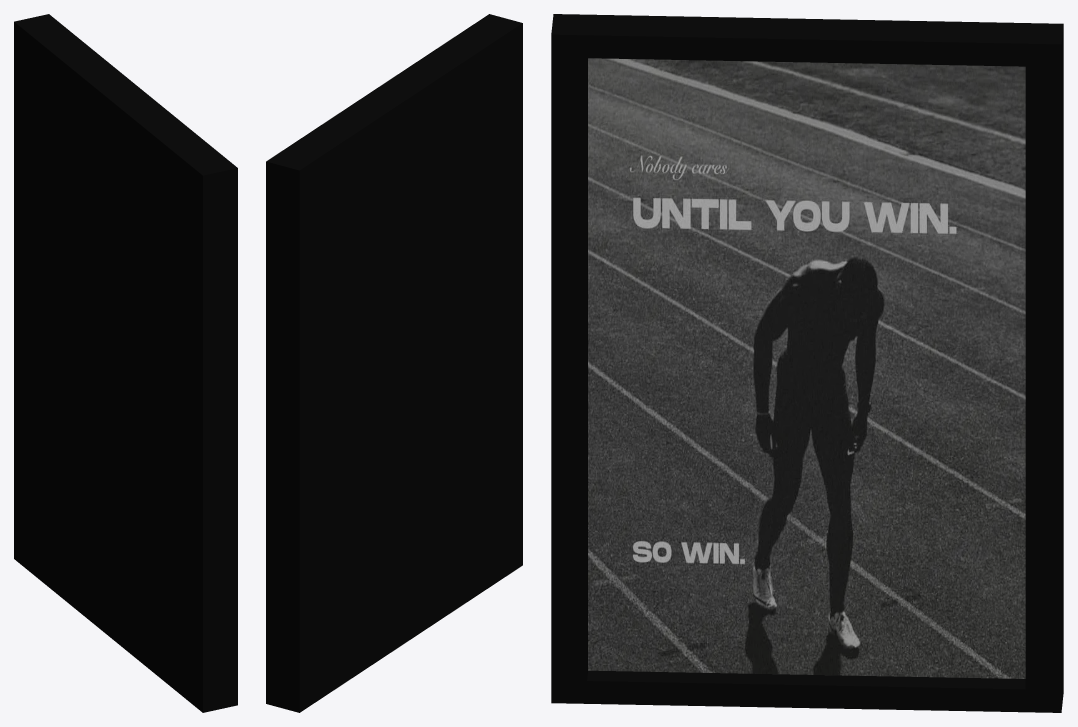
The model's file is until_you_win-b2CvwP-K.glb.
3 renders of one model, left to right at view 1: azimuth 30°, elevation 25°; view 2: azimuth 150°, elevation 25°; view 3: azimuth 270°, elevation 25°, orthographic. The views are drawn at different scales.
Visible parts, largest first — view 1: StudyShelf_2449; view 2: StudyShelf_2449; view 3: StudyShelf_2449.
Boxes of the visible parts, box(x1,y1,x2,y2) form: StudyShelf_2449: box(14, 14, 237, 712); StudyShelf_2449: box(266, 14, 522, 712); StudyShelf_2449: box(551, 14, 1063, 712).
Bounding box in the file's own units: 9.71 × 99.35 × 69.01.
2 materials, 1 textured.
